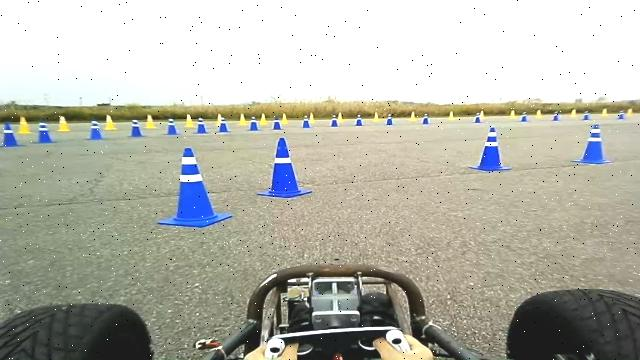blue cone: (157, 147, 232, 228), (256, 137, 312, 198), (468, 126, 512, 172), (572, 124, 614, 164), (0, 121, 24, 147), (32, 120, 57, 144), (85, 119, 106, 140), (126, 119, 144, 137), (163, 118, 180, 135), (193, 118, 208, 133), (246, 116, 261, 131), (218, 118, 230, 132), (272, 116, 282, 130), (301, 115, 311, 128), (384, 114, 394, 125), (421, 112, 430, 124), (354, 114, 363, 126)
yellow cone: (17, 116, 33, 134), (56, 116, 71, 132), (103, 114, 118, 130), (144, 114, 158, 129), (184, 113, 194, 127), (238, 113, 247, 125), (258, 113, 266, 125), (215, 113, 222, 126), (281, 113, 288, 124), (409, 111, 416, 121), (336, 112, 343, 122), (372, 112, 379, 122), (308, 112, 314, 123)
